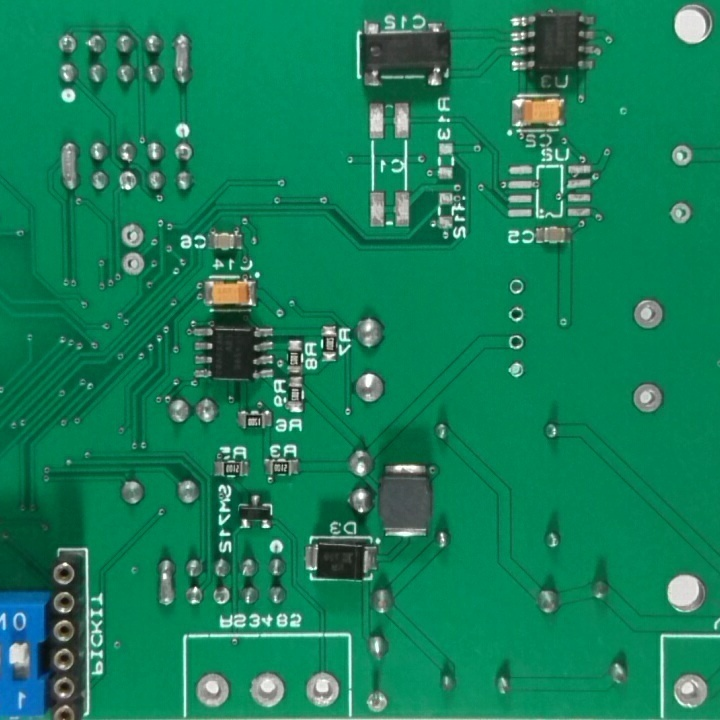F: (300, 666, 345, 712), (670, 666, 714, 713), (191, 667, 232, 713), (244, 669, 289, 710), (630, 293, 665, 335), (630, 377, 664, 418), (116, 220, 147, 252), (665, 200, 694, 230), (361, 687, 392, 715), (120, 246, 147, 278), (668, 143, 696, 172), (209, 583, 234, 613), (116, 170, 142, 195), (54, 31, 79, 56), (506, 275, 527, 303), (504, 302, 526, 328), (504, 359, 528, 381), (504, 331, 526, 355), (173, 142, 193, 166)
P: (56, 137, 81, 198), (169, 27, 193, 89), (153, 552, 176, 609)
